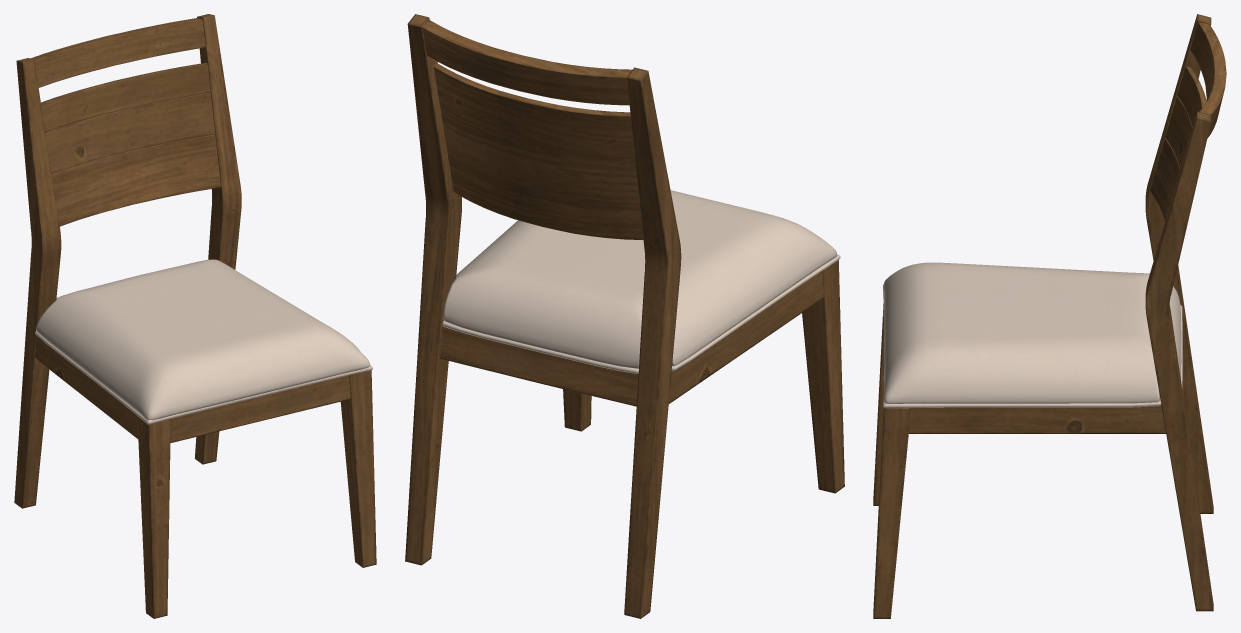
The model's file is B07B79SZV1.glb.
3 views of the same model, side by side, from view 1: azimuth 30°, elevation 25°; view 2: azimuth 150°, elevation 25°; view 3: azimuth 270°, elevation 25° (orthographic). The views are drawn at different scales.
Parts seen in each view (by area): view 1: RootNode; view 2: RootNode; view 3: RootNode.
Boxes of the visible parts, x1=… form: RootNode: x1=14, y1=14, x2=376, y2=618; RootNode: x1=405, y1=14, x2=844, y2=618; RootNode: x1=873, y1=14, x2=1226, y2=618.
Size of the model in its own units: 0.4971 by 0.9389 by 0.6097.
1 material, 1 textured.
